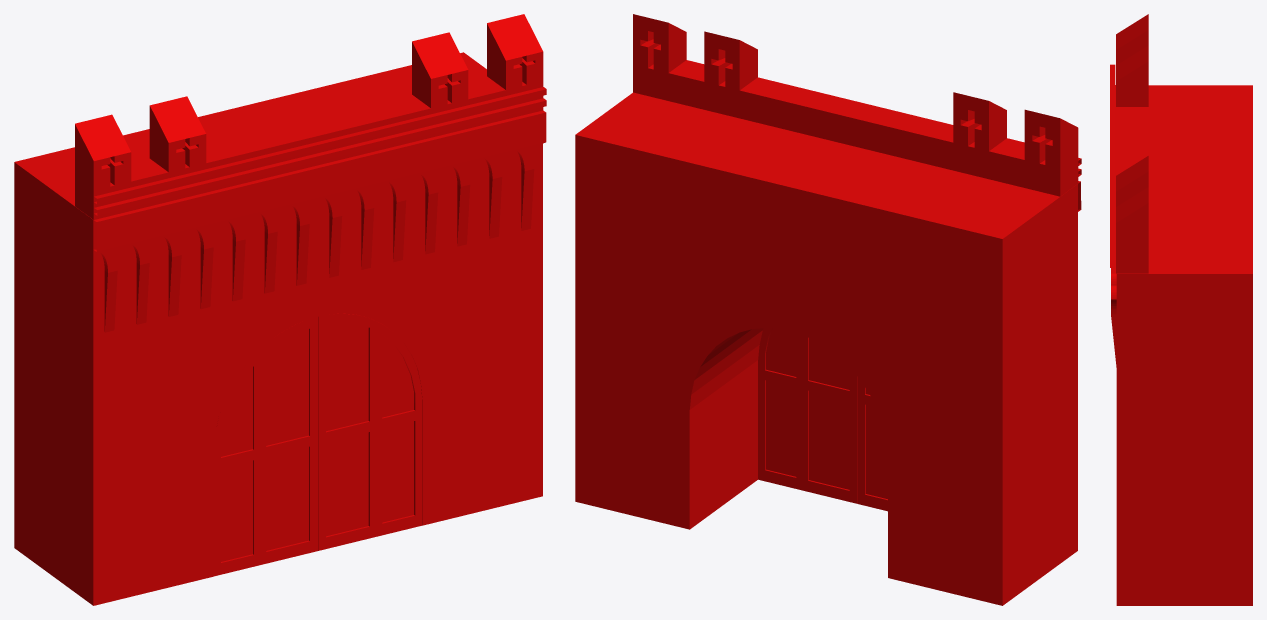
The model's file is Door.fbx.
3 views of the same model, side by side, from view 1: azimuth 30°, elevation 25°; view 2: azimuth 150°, elevation 25°; view 3: azimuth 270°, elevation 25° (orthographic). The views are drawn at different scales.
Visible parts, largest first — view 1: castle:polySurface2843; view 2: castle:polySurface2843; view 3: castle:polySurface2843.
Part boxes in pixels (x1,y1,x2,y2): castle:polySurface2843: (14,14,546,605); castle:polySurface2843: (575,14,1081,605); castle:polySurface2843: (1110,14,1252,605).
Size of the model in its own units: 2000 by 1992 by 640.
